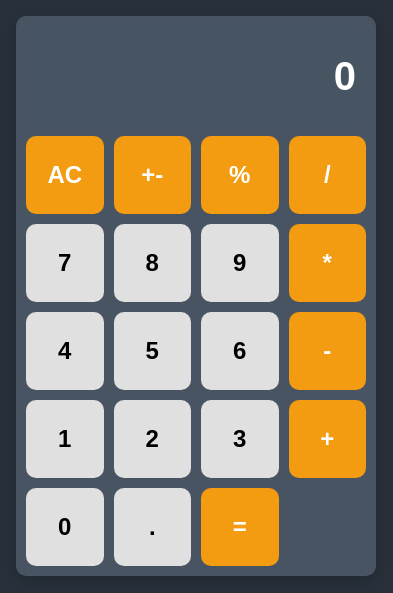
Test case: Calculator App › displays numbers when clicked
Click the button "1" at (65, 439), box [26,400,104,478]
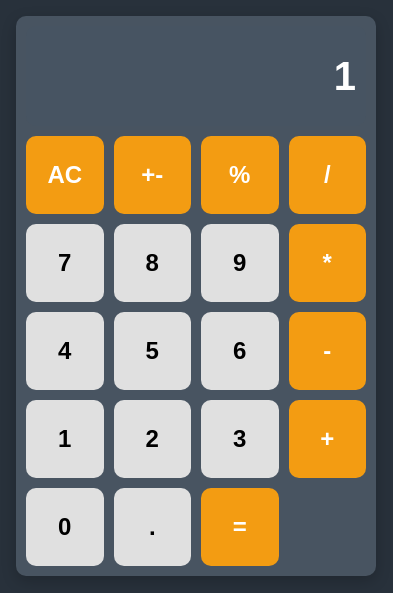
Click the button "2" at (152, 439), box [114,400,191,478]
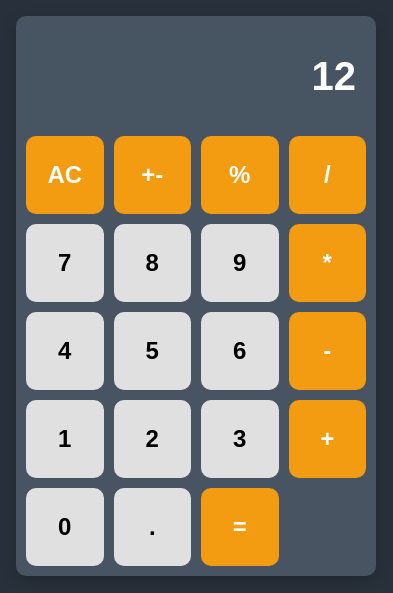
Click the button "3" at (240, 439), box [201,400,278,478]
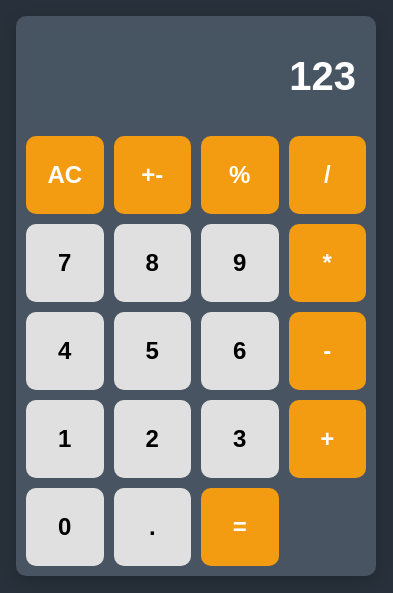
Expected: the text "123" is shown, [26,26,366,126]
